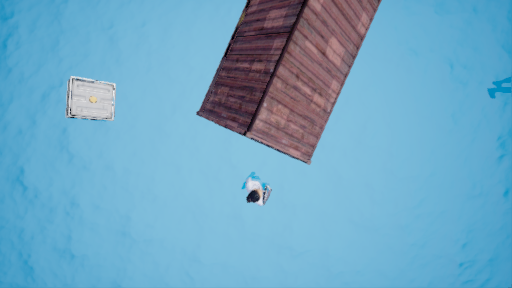person: (238, 172, 279, 209)
